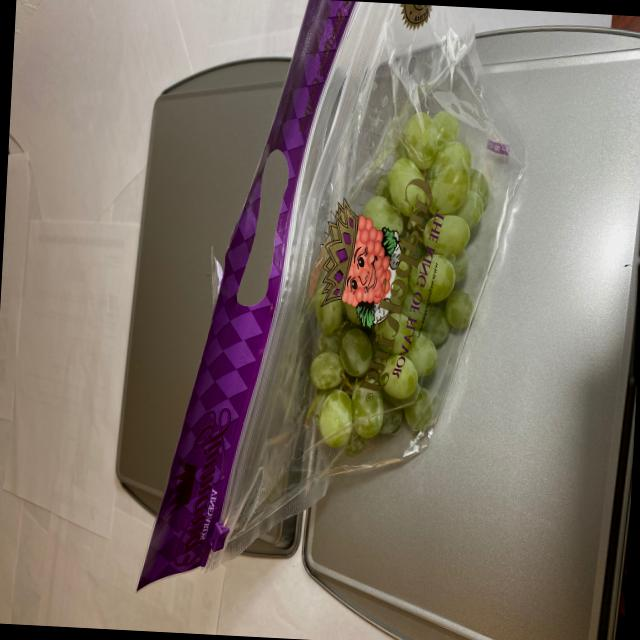grapes: (295, 114, 504, 480)
